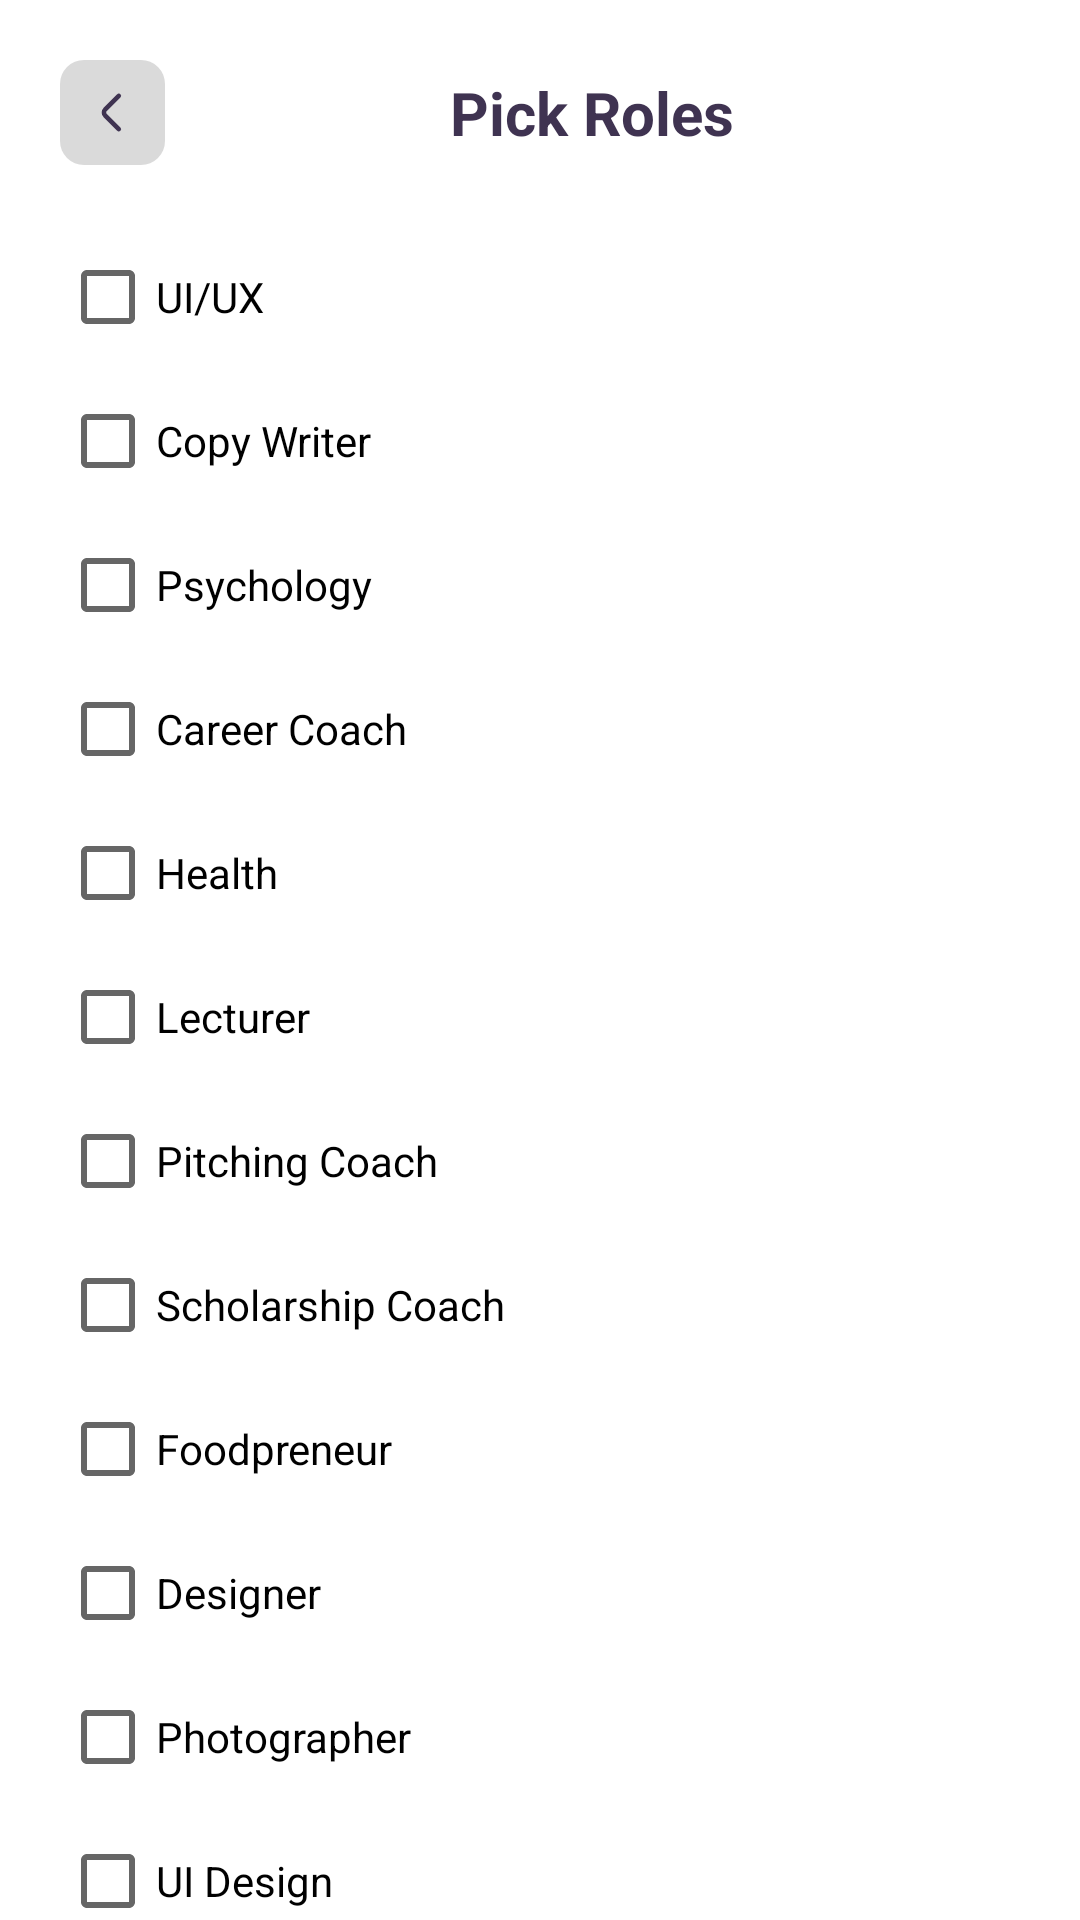

Point at icon controls on the screen. Image size 1080 x 1920, points as (x=x, y=y).
back: (x=112, y=112)
